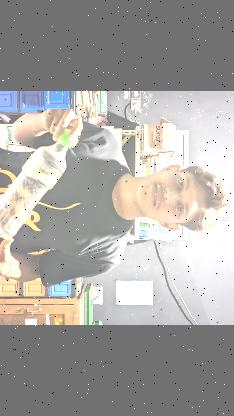Plastic Bottle: (0, 135, 70, 239)
